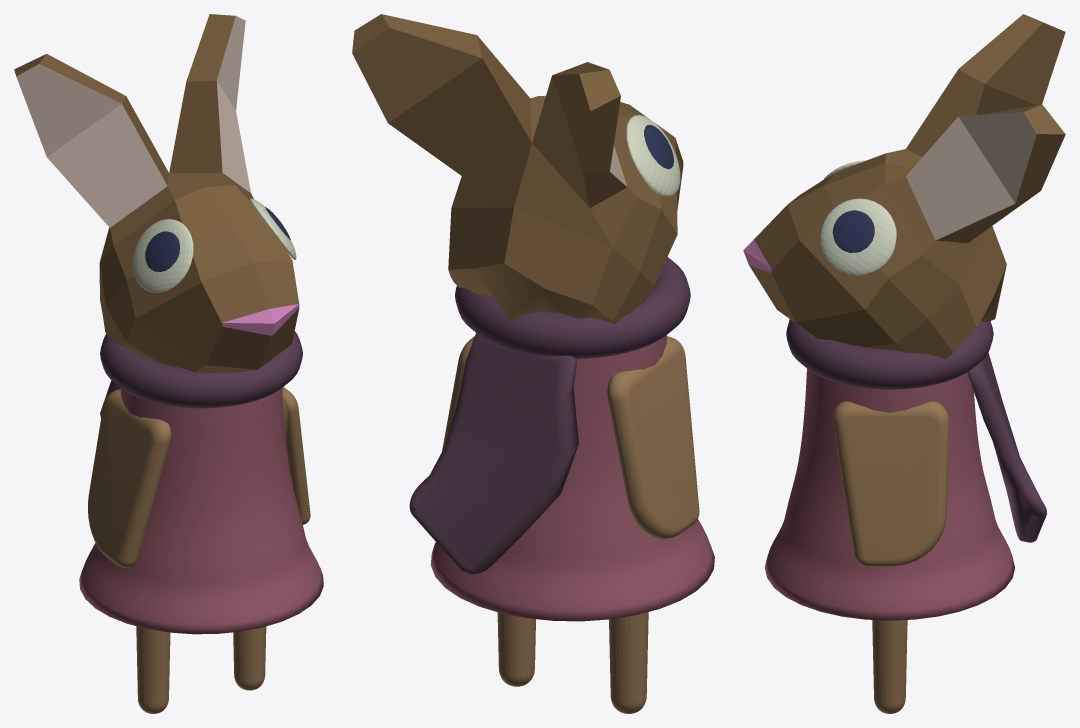
Rendered from bunny remaster.fbx.
3 views of the same model, side by side, from view 1: azimuth 30°, elevation 25°; view 2: azimuth 150°, elevation 25°; view 3: azimuth 270°, elevation 25° (orthographic). The views are drawn at different scales.
Parts seen in each view (by area): view 1: Plane.002, Cylinder.159, Cube.033, Torus.011, Cylinder.158, Sphere.019, Sphere.018; view 2: Plane.002, Cylinder.159, Cube.032, Cube.033, Torus.011, Cylinder.158, Sphere.019, Sphere.018; view 3: Plane.002, Cylinder.159, Cube.033, Torus.011, Cube.032, Sphere.019, Cylinder.158, Sphere.018.
Part boxes in pixels (box(x1,y1,x2,y2)): Plane.002: box(14, 14, 299, 373); Cylinder.159: box(79, 387, 323, 634); Cube.033: box(88, 387, 310, 567); Torus.011: box(100, 331, 302, 408); Cylinder.158: box(136, 626, 266, 713); Sphere.019: box(132, 198, 296, 292); Sphere.018: box(145, 207, 290, 271); Plane.002: box(352, 14, 683, 323); Cylinder.159: box(430, 335, 714, 621); Cube.032: box(409, 332, 578, 574); Cube.033: box(442, 336, 699, 539); Torus.011: box(455, 257, 690, 358); Cylinder.158: box(497, 612, 648, 713); Sphere.019: box(543, 95, 680, 196); Sphere.018: box(644, 124, 673, 169); Plane.002: box(743, 14, 1065, 358); Cylinder.159: box(764, 368, 1014, 620); Cube.033: box(832, 401, 949, 566); Torus.011: box(786, 319, 993, 389); Cube.032: box(967, 353, 1046, 542); Sphere.019: box(820, 160, 896, 275); Cylinder.158: box(872, 620, 907, 713); Sphere.018: box(832, 210, 874, 252).
Size of the model in its own units: 82.84 by 211 by 98.7.
